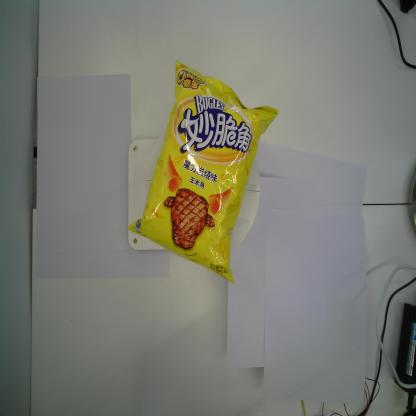Puffed Food: (126, 60, 275, 284)
